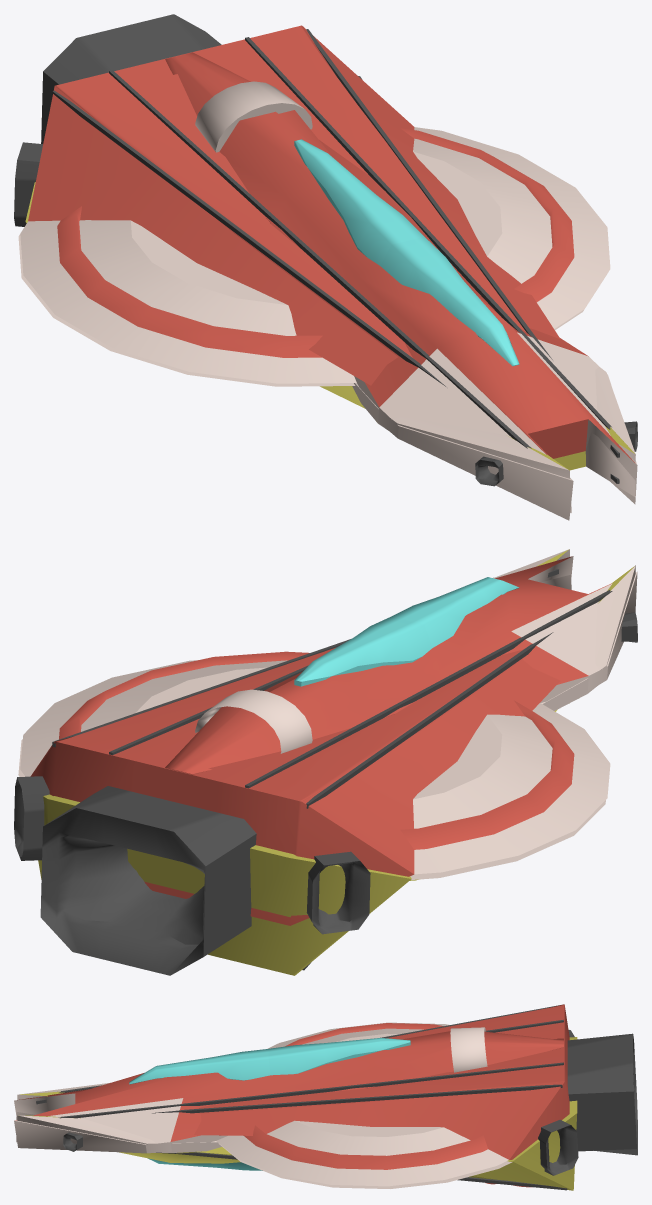
File: EnemyFighter01.fbx
3 views of the same model, one above another, from view 1: azimuth 30°, elevation 25°; view 2: azimuth 150°, elevation 25°; view 3: azimuth 270°, elevation 25° (orthographic). The views are drawn at different scales.
Parts seen in each view (by area): view 1: pCube1, pCylinder1, pCube2, pCube10, pCylinder2, pasted__pCube61, pCube12, pCube4, pCube3, pCylinder5, pasted__pCube44, pasted__pCube65 (+4 smaller); view 2: pCube1, pasted__pCube61, pCylinder1, pCube2, pCube11, pCylinder2, pCube10, pCube4, pasted__pCube66, pCube3, pCube12, pCylinder5 (+6 smaller); view 3: pCube1, pCube2, pCylinder1, pasted__pCube61, pCube10, pCylinder2, pCube4, pCube11, pCube3, pCube12, pasted__pCube63, pasted__pCube64 (+9 smaller).
Boxes of the visible parts, x1,y1,x2,y2 form: pCube1: (28, 25, 560, 385); pCylinder1: (20, 127, 610, 383); pCube2: (165, 52, 635, 463); pCube10: (354, 332, 637, 520); pCylinder2: (57, 128, 574, 357); pasted__pCube61: (41, 14, 221, 143); pCube12: (352, 367, 635, 512); pCube4: (294, 139, 423, 265); pCube3: (380, 236, 519, 366); pCylinder5: (195, 81, 312, 152); pasted__pCube44: (109, 70, 531, 448); pasted__pCube65: (52, 90, 445, 386); pCube1: (30, 647, 560, 925); pasted__pCube61: (40, 786, 256, 975); pCylinder1: (20, 660, 610, 874); pCube2: (165, 556, 611, 774); pCube11: (38, 709, 557, 975); pCylinder2: (59, 651, 574, 849); pCube10: (511, 556, 637, 702); pCube4: (294, 616, 432, 686); pasted__pCube66: (306, 851, 370, 934); pCube3: (392, 577, 519, 647); pCube12: (493, 549, 635, 710); pCylinder5: (195, 689, 312, 753); pCube1: (194, 1004, 569, 1159); pCube2: (15, 1031, 563, 1141); pCylinder1: (216, 1022, 508, 1186); pasted__pCube61: (567, 1033, 637, 1155); pCube10: (14, 1093, 227, 1153); pCylinder2: (244, 1023, 487, 1169); pCube4: (268, 1037, 410, 1075); pCube11: (197, 1037, 577, 1190); pCube3: (129, 1049, 270, 1084); pCube12: (16, 1082, 221, 1152); pasted__pCube63: (58, 1062, 563, 1118); pasted__pCube64: (152, 1084, 562, 1113).
Bounding box in the file's own units: 129 × 51.25 × 208.
